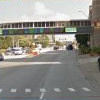crosswalk: (0, 87, 90, 92)
